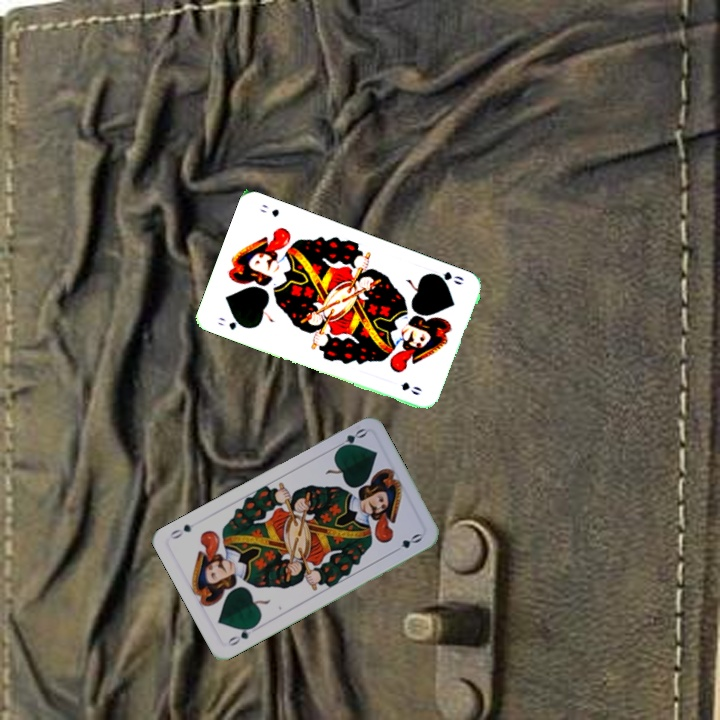GO: (331, 424, 369, 454), (224, 620, 260, 649), (429, 268, 466, 288), (214, 313, 250, 333)
